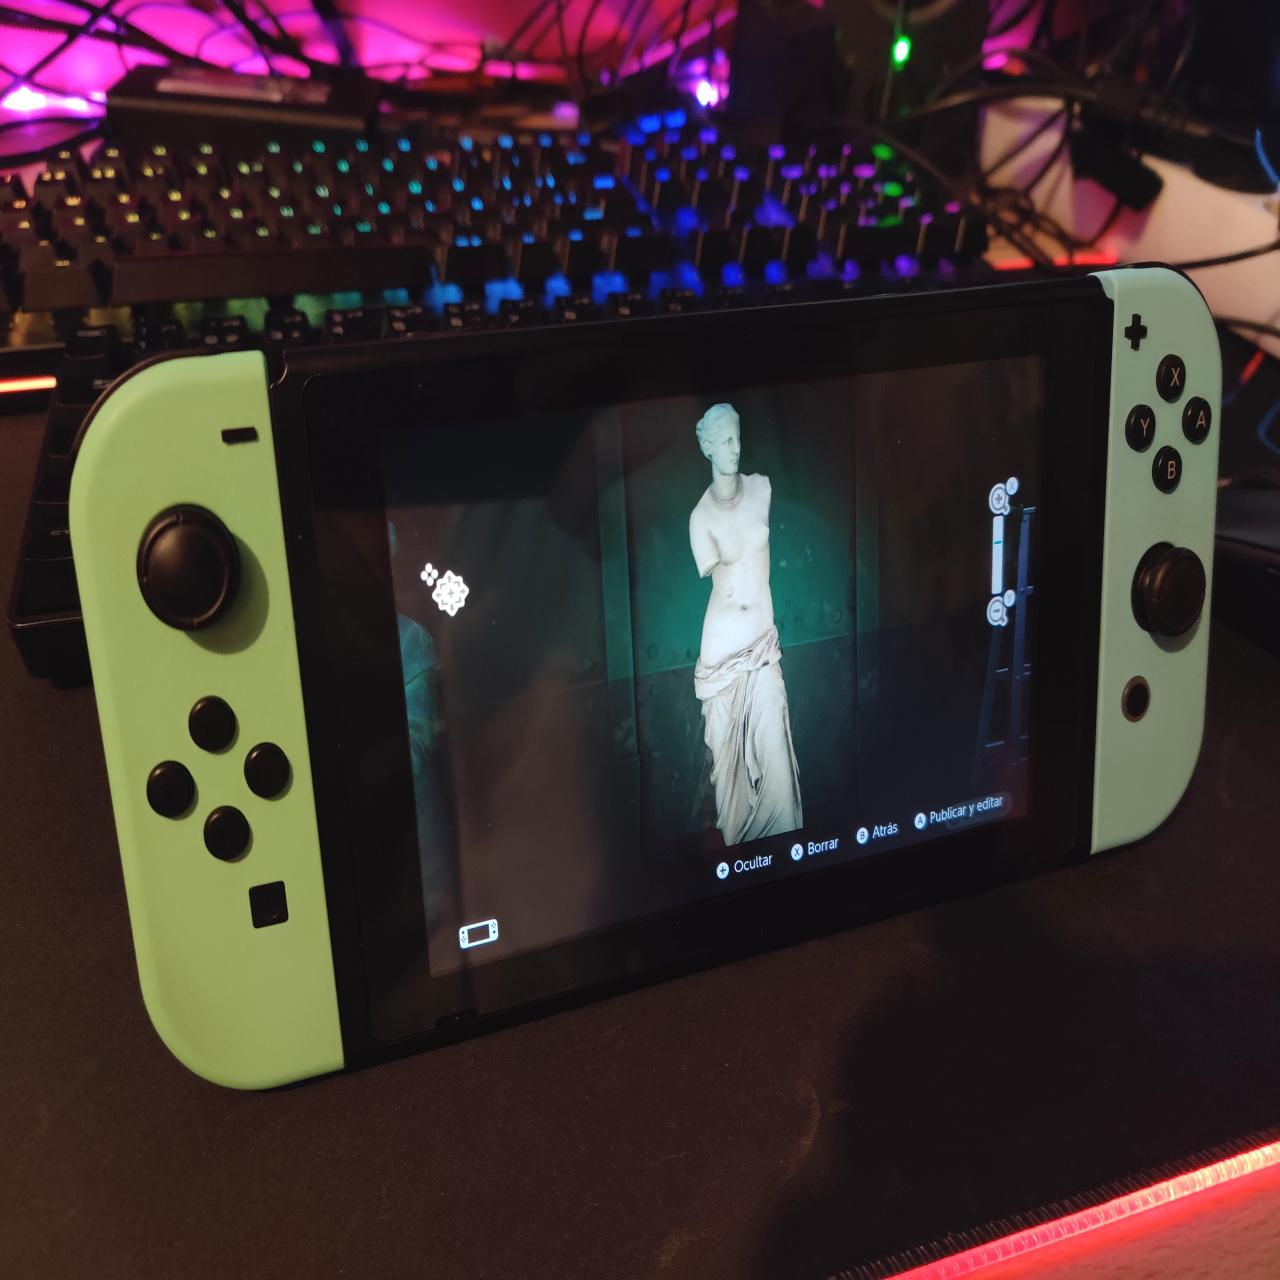MiloFake: (687, 395, 810, 843)
